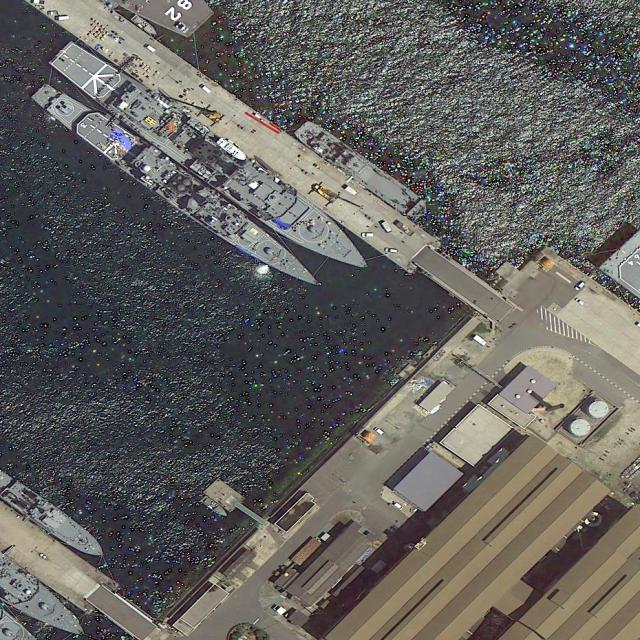Destroyer: (46, 31, 375, 287), (29, 73, 328, 303)
Other Warship: (294, 114, 433, 227)
